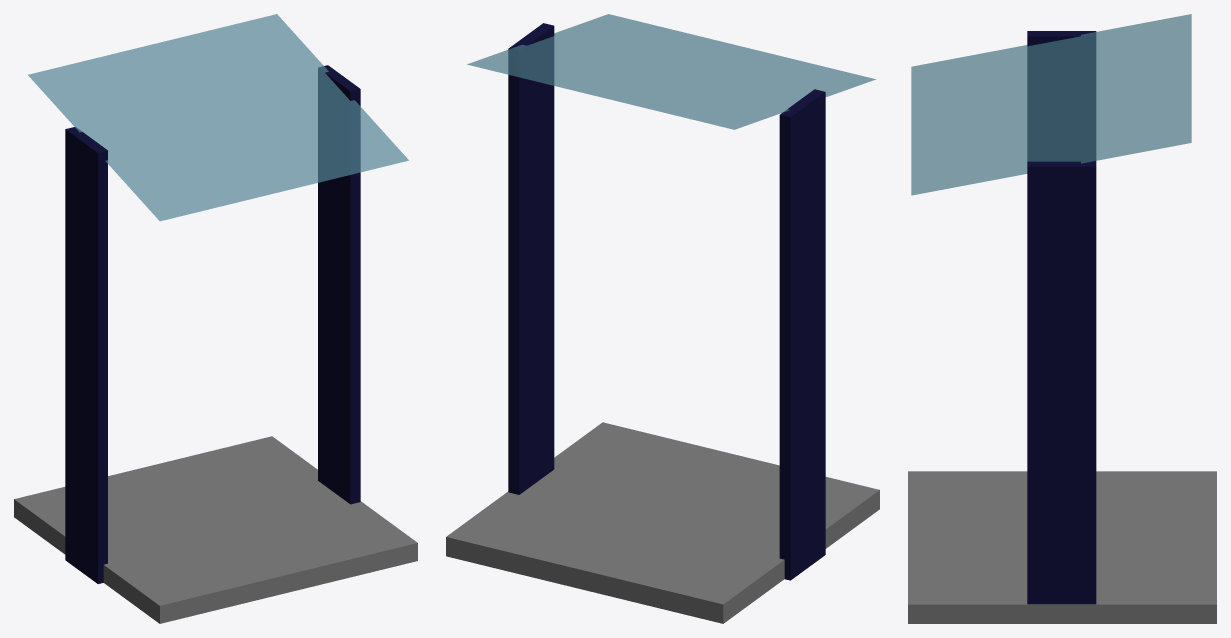
File: postument.FBX
The picture shows the model from 3 angles, left to right: view 1: azimuth 30°, elevation 25°; view 2: azimuth 150°, elevation 25°; view 3: azimuth 270°, elevation 25°; orthographic projection. The views are drawn at different scales.
Parts seen in each view (by area): view 1: Plane001, Box003, Box002, Box001; view 2: Box003, Plane001, Box002, Box001; view 3: Box003, Plane001, Box001, Box002.
Part boxes in pixels (x1=…): Plane001: x1=28, y1=14, x2=408, y2=221; Box003: x1=14, y1=436, x2=417, y2=623; Box002: x1=65, y1=127, x2=107, y2=583; Box001: x1=318, y1=65, x2=360, y2=504; Box003: x1=446, y1=422, x2=879, y2=623; Plane001: x1=467, y1=14, x2=875, y2=129; Box002: x1=779, y1=89, x2=825, y2=580; Box001: x1=508, y1=23, x2=554, y2=494; Box003: x1=908, y1=471, x2=1216, y2=623; Plane001: x1=911, y1=14, x2=1191, y2=195; Box001: x1=1027, y1=161, x2=1096, y2=604; Box002: x1=1027, y1=31, x2=1096, y2=161.
Bounding box in the file's own units: 32.76 × 53.51 × 31.37.
